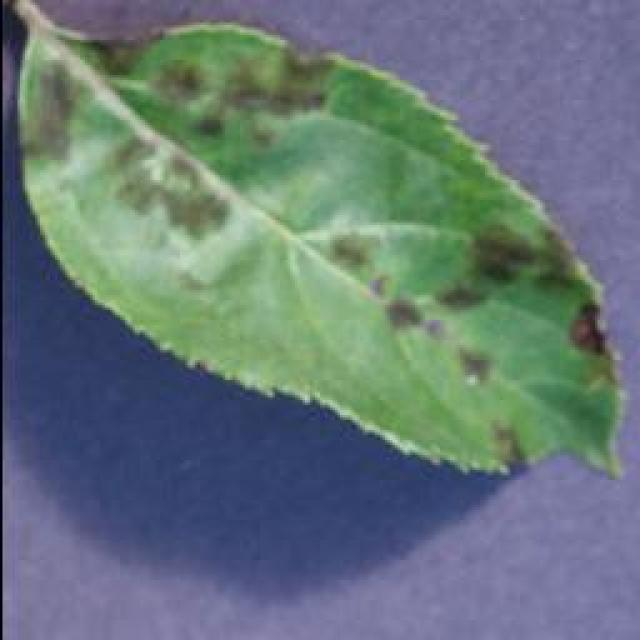apple scab disease: (10, 0, 627, 482)
